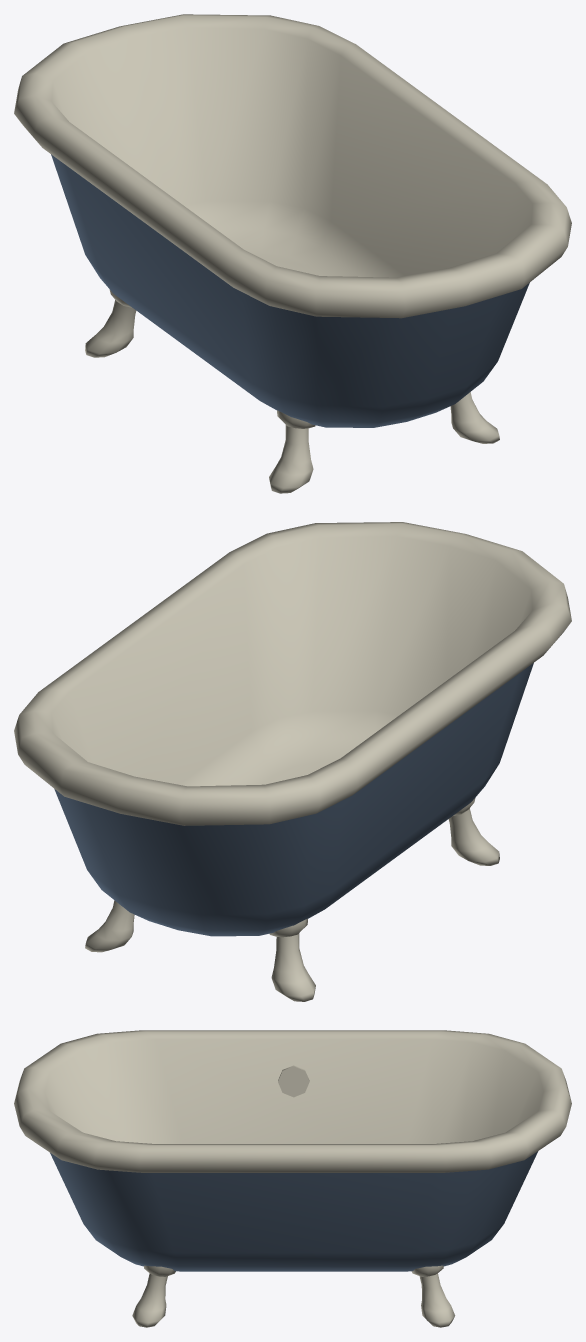
The model's file is Bathtub_01.fbx.
3 views of the same model, one above another, from view 1: azimuth 30°, elevation 25°; view 2: azimuth 150°, elevation 25°; view 3: azimuth 270°, elevation 25° (orthographic). The views are drawn at different scales.
Visible parts, largest first — view 1: Bathtub_01; view 2: Bathtub_01; view 3: Bathtub_01.
Part boxes in pixels (x1,y1,x2,y2): Bathtub_01: (14,14,571,493); Bathtub_01: (14,522,571,1001); Bathtub_01: (14,1030,571,1327).
Bounding box in the file's own units: 0.994 × 0.7192 × 1.86.
